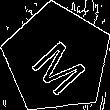M_NE: (23, 25, 90, 93)
